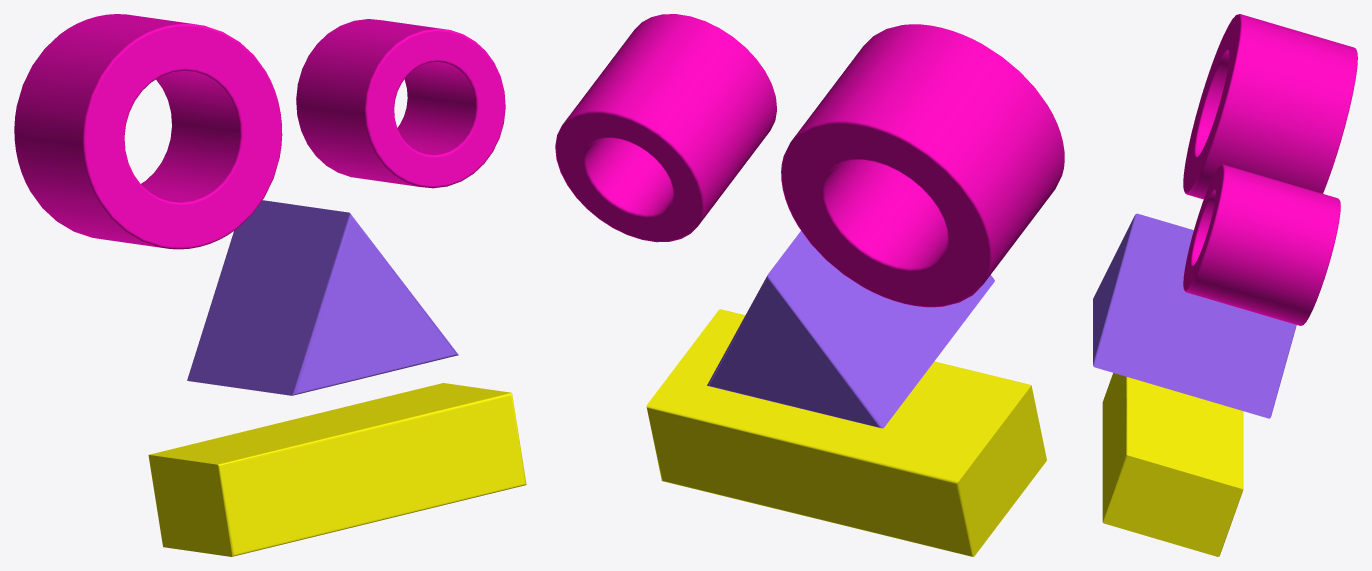
The model's file is facemodel.glb.
3 views of the same model, side by side, from view 1: azimuth 30°, elevation 25°; view 2: azimuth 150°, elevation 25°; view 3: azimuth 270°, elevation 25° (orthographic). The views are drawn at different scales.
Parts seen in each view (by area): view 1: Ellipse 19, Rectangle 93, Polygon 13, Ellipse 18; view 2: Ellipse 19, Rectangle 93, Ellipse 18, Polygon 13; view 3: Polygon 13, Ellipse 19, Rectangle 93, Ellipse 18.
Boxes of the visible parts, <box> form: Ellipse 19: <box>14,14,282,249</box>; Rectangle 93: <box>148,383,526,556</box>; Polygon 13: <box>187,200,458,395</box>; Ellipse 18: <box>296,19,505,188</box>; Ellipse 19: <box>781,24,1064,307</box>; Rectangle 93: <box>646,309,1046,556</box>; Ellipse 18: <box>555,14,776,242</box>; Polygon 13: <box>707,231,994,428</box>; Polygon 13: <box>1093,213,1296,418</box>; Ellipse 19: <box>1183,14,1357,199</box>; Rectangle 93: <box>1102,373,1243,556</box>; Ellipse 18: <box>1183,164,1340,325</box>.
Bounding box in the file's own units: 21.45 × 25 × 14.25.
